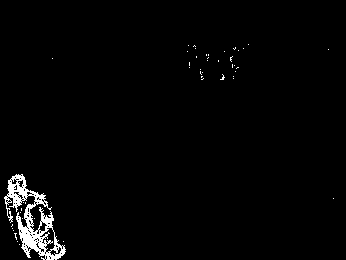person: (4, 173, 65, 260)
